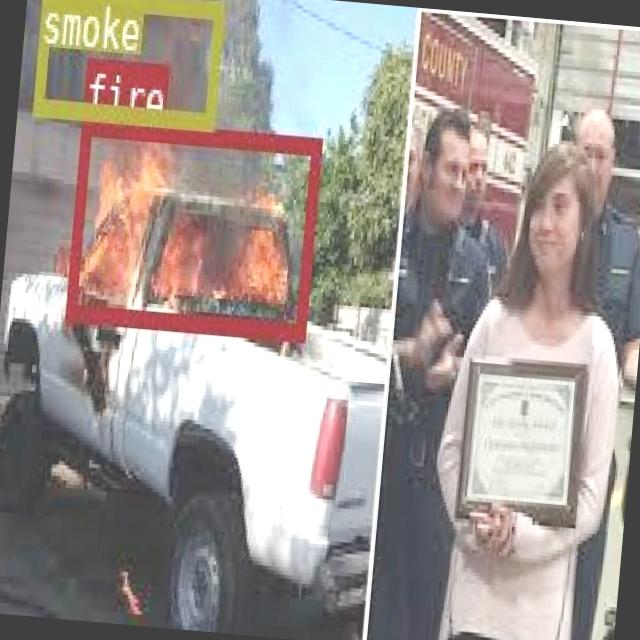fire: (63, 114, 320, 337)
smoke: (32, 0, 221, 125)
